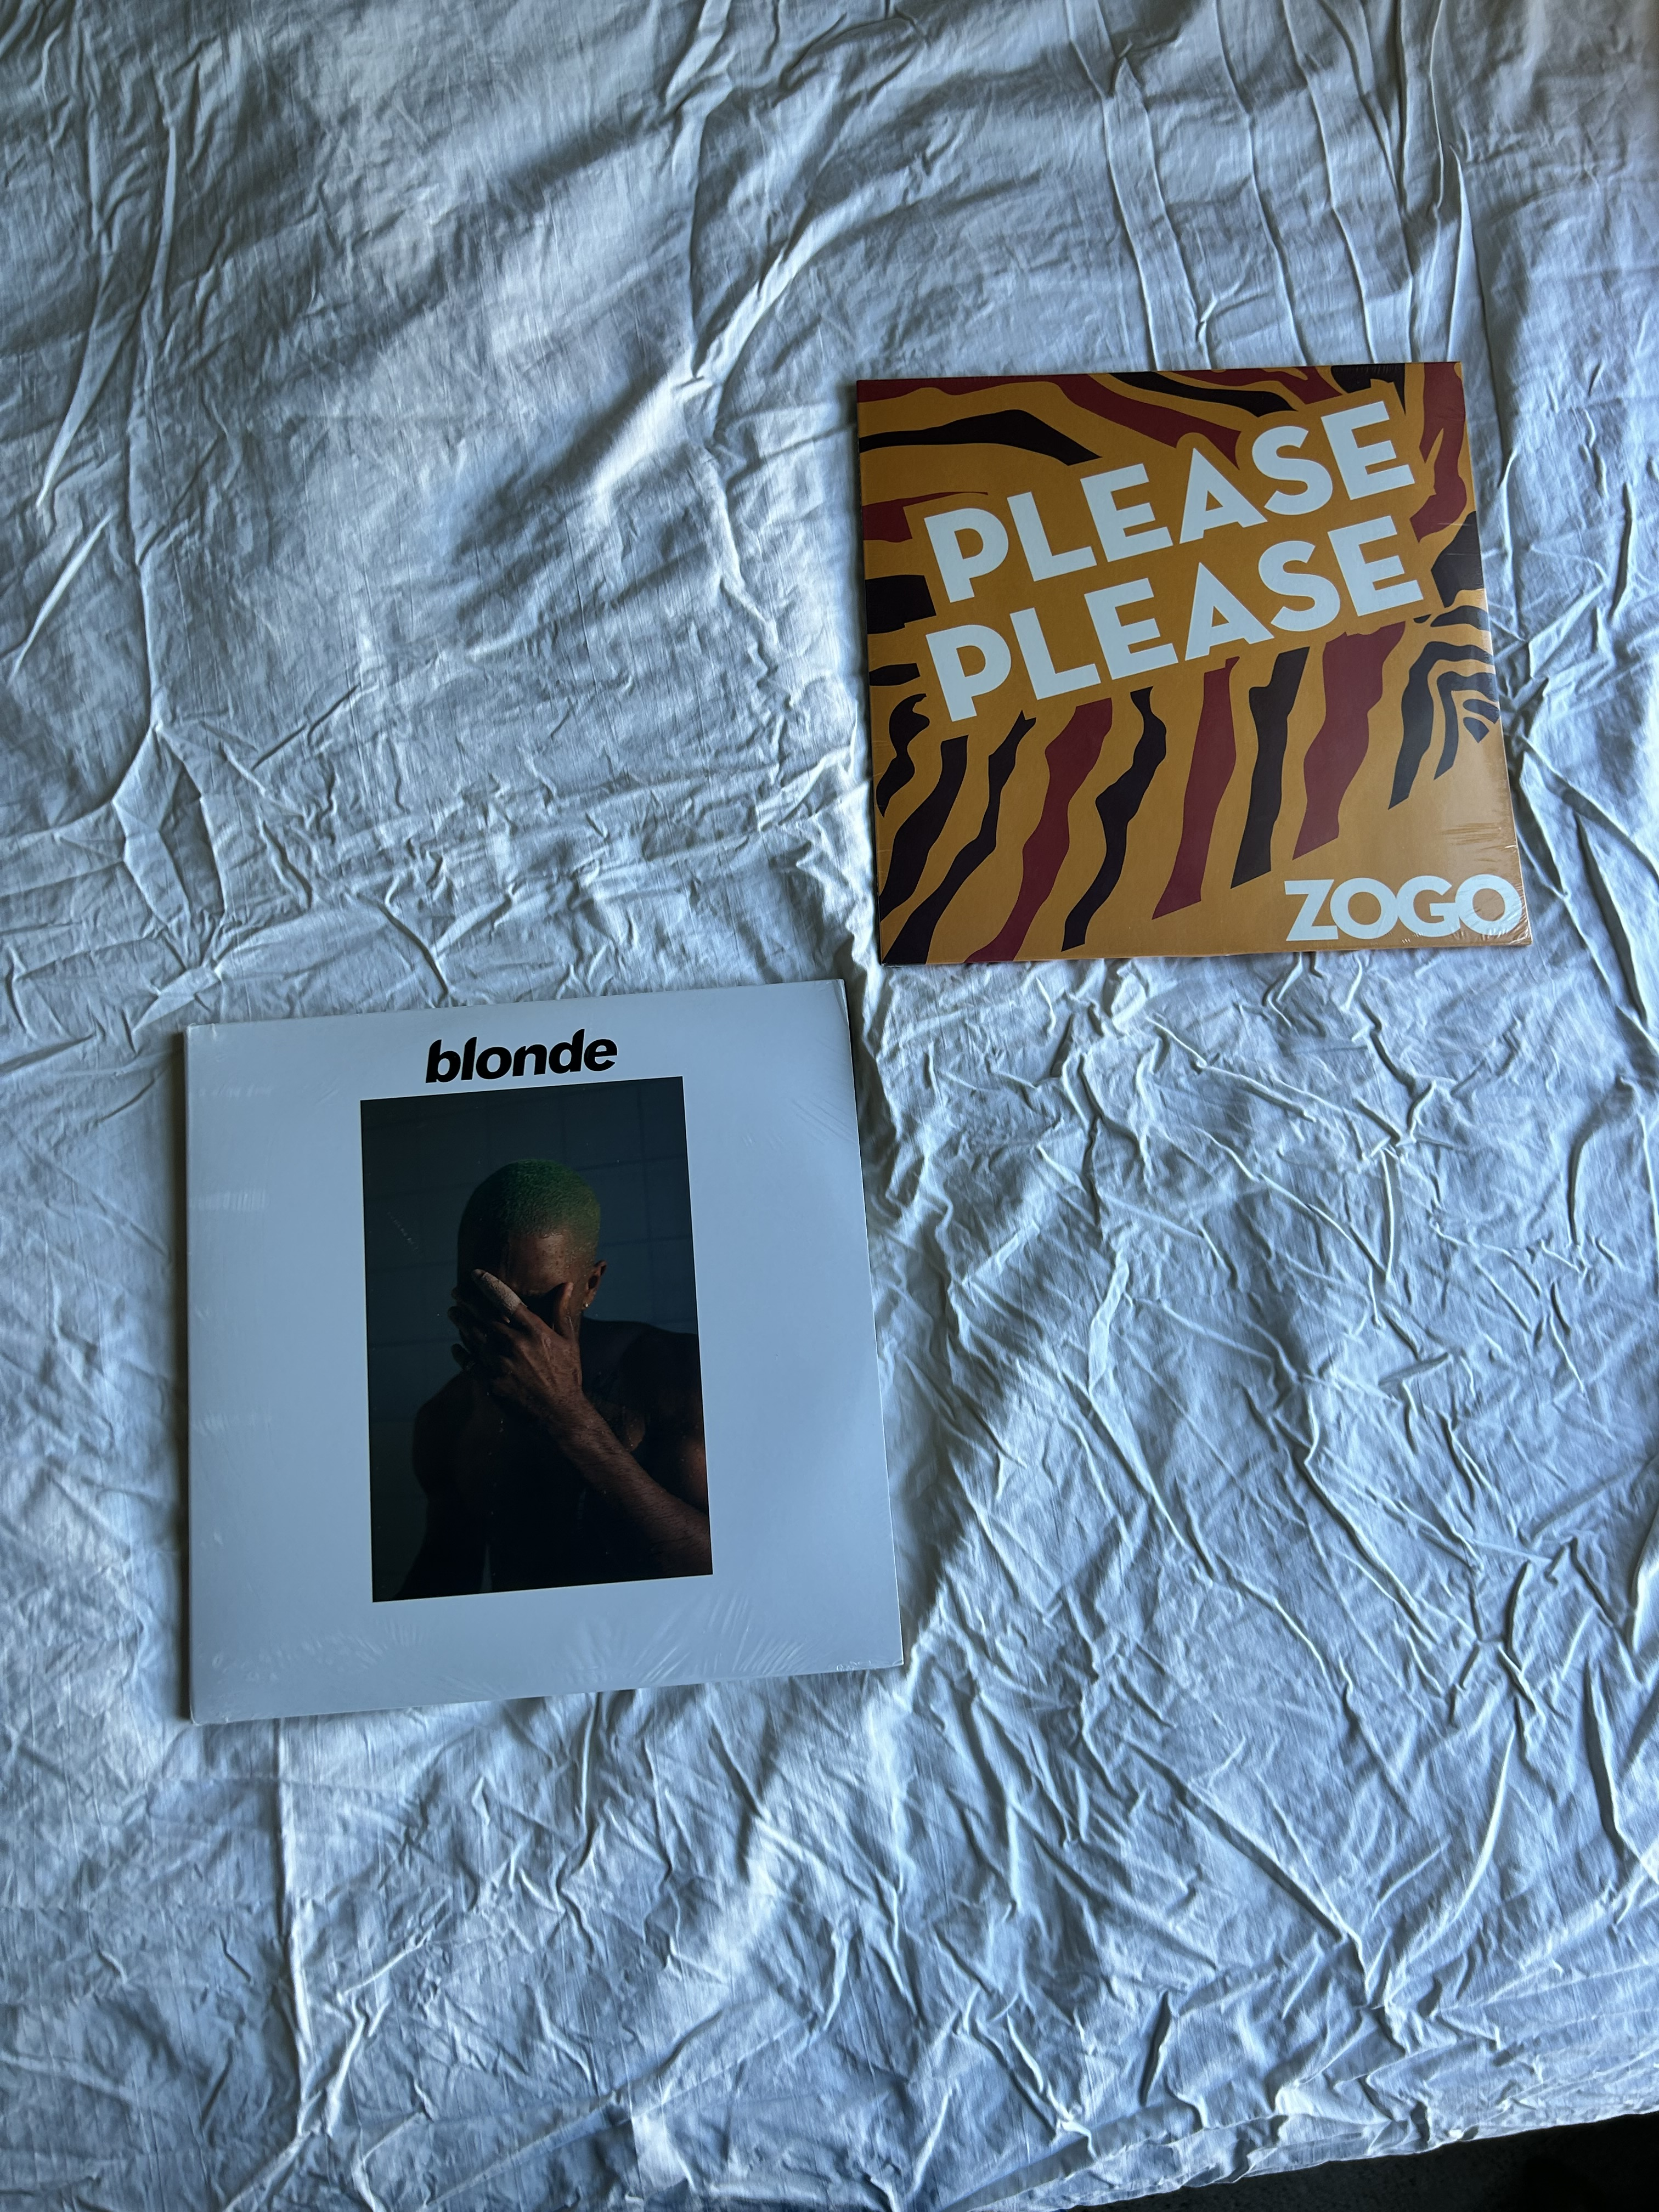frank ocean_blonde: (113, 1024, 863, 1743)
zogo_please please: (838, 378, 1516, 968)
